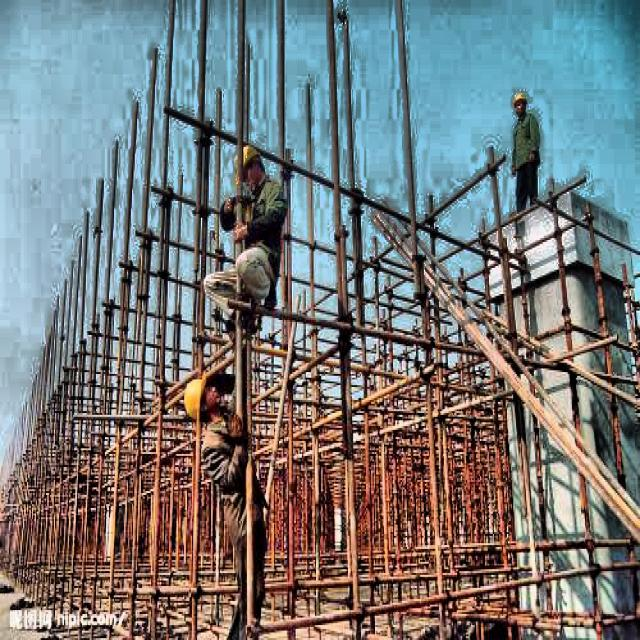helmet: (180, 374, 224, 419), (232, 143, 265, 192), (509, 88, 530, 119)
